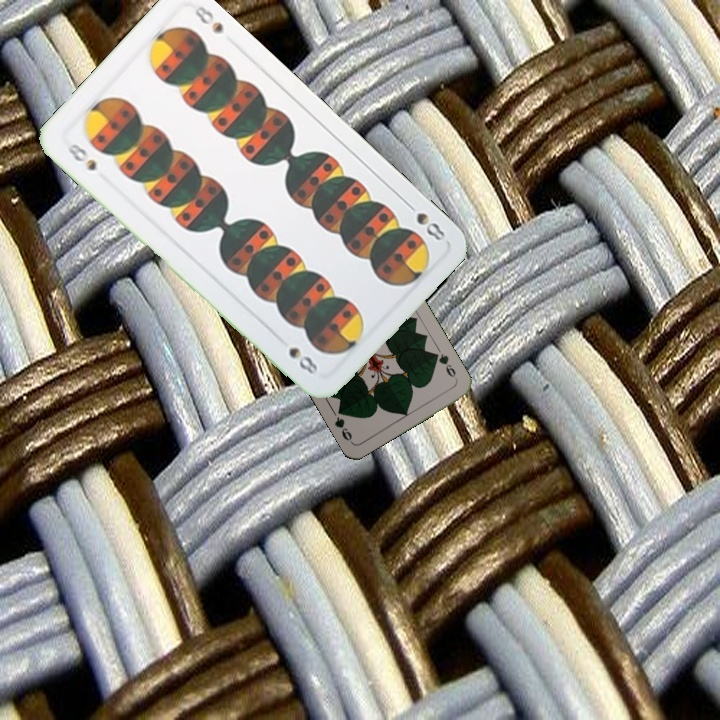G9: (429, 349, 460, 383)
S8: (400, 197, 448, 243), (62, 139, 99, 173)
